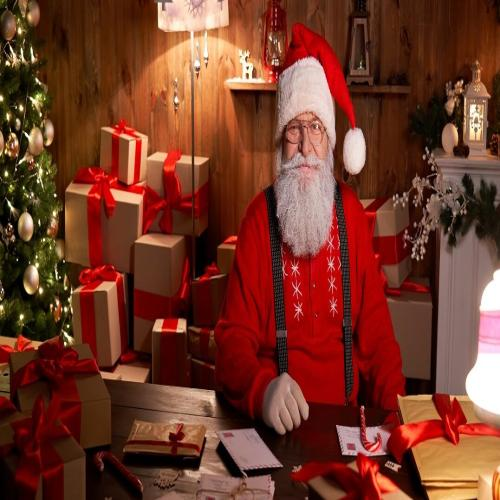Santa: (214, 23, 406, 434)
